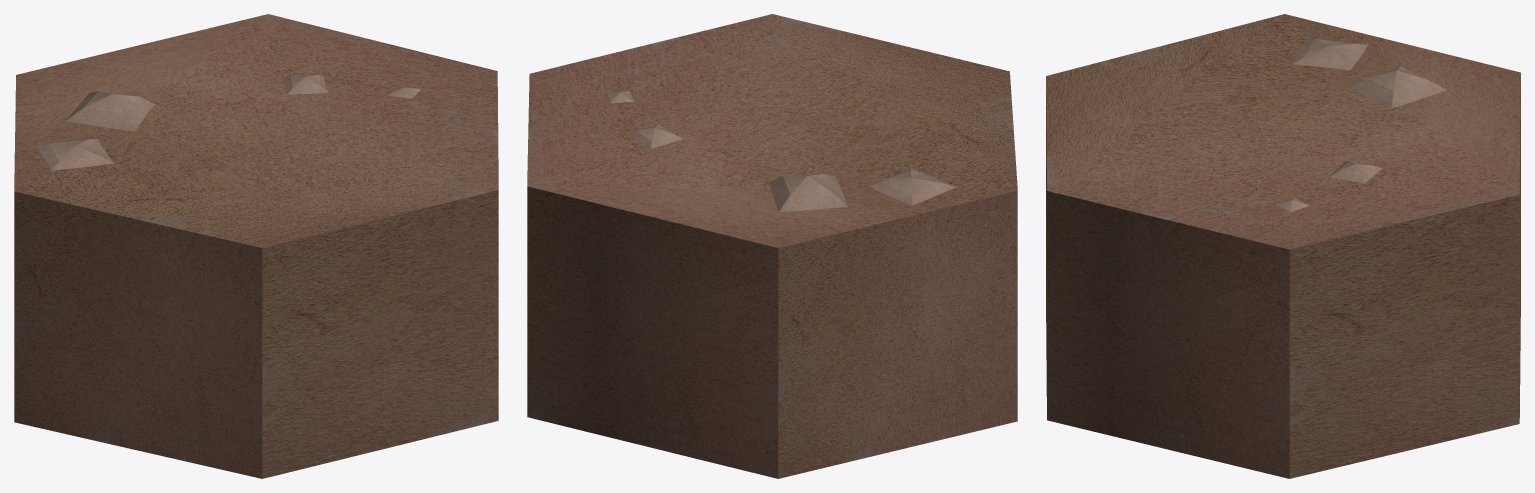
The model's file is 战斗空白格.fbx.
3 views of the same model, side by side, from view 1: azimuth 30°, elevation 25°; view 2: azimuth 150°, elevation 25°; view 3: azimuth 270°, elevation 25° (orthographic).
Visible parts, largest first — view 1: Box001, Pyramid004, Pyramid003, Pyramid002; view 2: Box001, Pyramid004, Pyramid003, Pyramid002; view 3: Box001, Pyramid004, Pyramid003, Pyramid002.
Boxes of the visible parts, x1,y1,x2,y2 form: Box001: (14,14,498,478); Pyramid004: (65,91,155,131); Pyramid003: (36,139,114,170); Pyramid002: (283,74,328,94); Box001: (527,14,1017,478); Pyramid004: (769,174,848,212); Pyramid003: (868,168,956,205); Pyramid002: (628,124,682,148); Box001: (1046,14,1520,478); Pyramid004: (1347,66,1446,108); Pyramid003: (1292,38,1367,70); Pyramid002: (1329,161,1381,183).
Size of the model in its own units: 8.2 by 4.02 by 6.99.
Materials: 2 (2 with a texture image).
